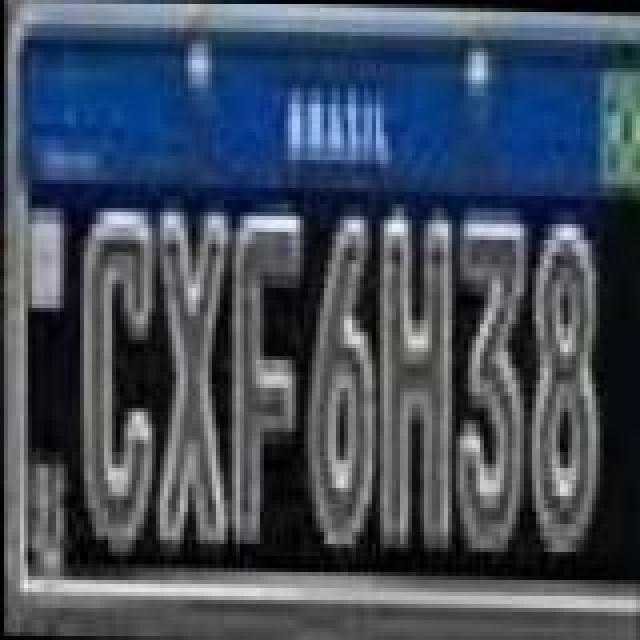3: (448, 212, 528, 556)
6: (298, 208, 378, 552)
8: (526, 222, 602, 550)
C: (72, 204, 160, 560)
F: (226, 208, 306, 552)
H: (378, 210, 458, 554)
X: (150, 212, 234, 556)
